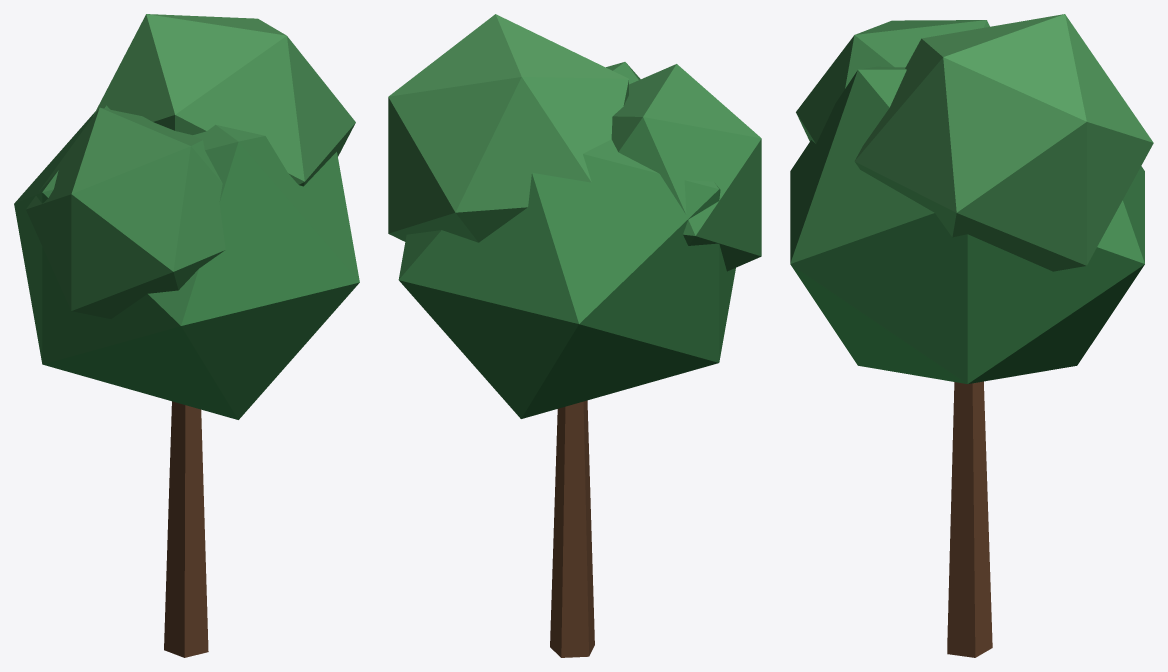
Rendered from prop_tree_a.glb.
3 views of the same model, side by side, from view 1: azimuth 30°, elevation 25°; view 2: azimuth 150°, elevation 25°; view 3: azimuth 270°, elevation 25° (orthographic). The views are drawn at different scales.
Visible parts, largest first — view 1: prop_tree_a; view 2: prop_tree_a; view 3: prop_tree_a.
Part boxes in pixels (left/top/right/bottom): prop_tree_a: left=14, top=14, right=359, bottom=657; prop_tree_a: left=388, top=14, right=761, bottom=657; prop_tree_a: left=790, top=14, right=1153, bottom=657.
Bounding box in the file's own units: 3.7 × 6.73 × 3.49.
